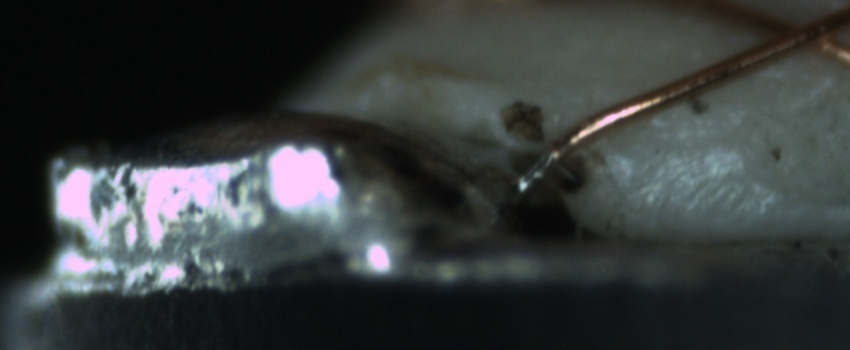CL: (751, 3, 846, 62)
DL: (621, 113, 756, 177)
TS: (517, 146, 559, 197)
TTCW: (494, 114, 600, 207)
